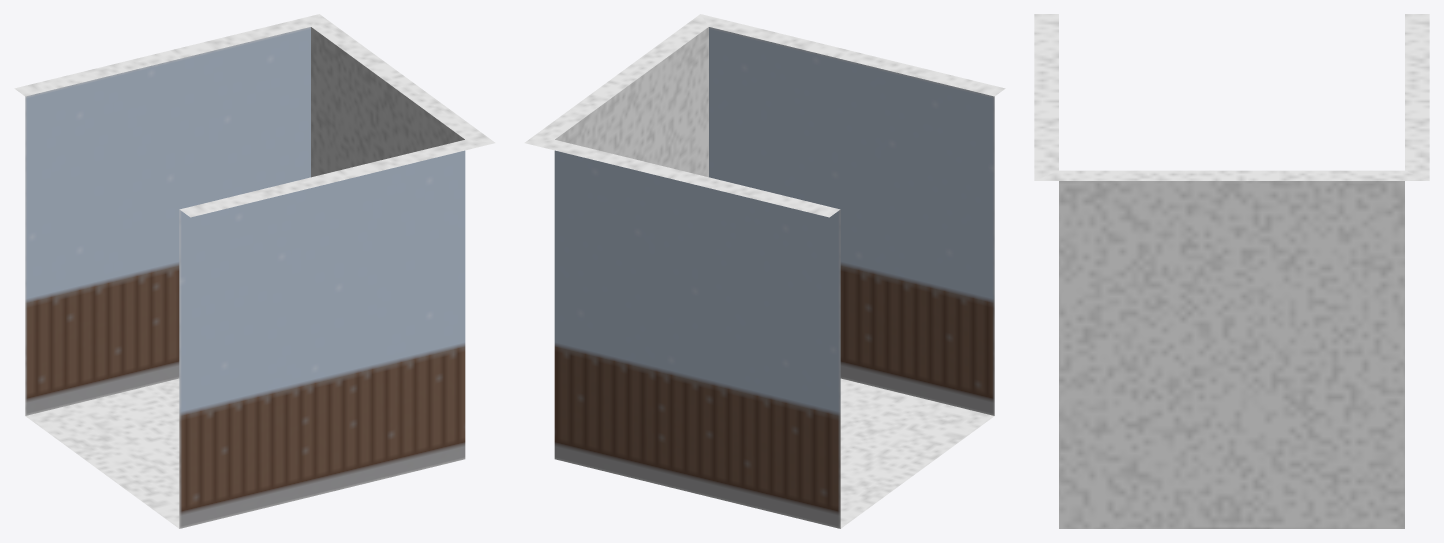
The model's file is DeadEndHall.fbx.
3 views of the same model, side by side, from view 1: azimuth 30°, elevation 25°; view 2: azimuth 150°, elevation 25°; view 3: azimuth 270°, elevation 25° (orthographic). The views are drawn at different scales.
Visible parts, largest first — view 1: UHall; view 2: UHall; view 3: UHall.
Part boxes in pixels (left/top/right/bottom): UHall: left=14, top=14, right=495, bottom=528; UHall: left=524, top=14, right=1005, bottom=528; UHall: left=1034, top=14, right=1429, bottom=528.
Bounding box in the file's own units: 4 × 4 × 4.
